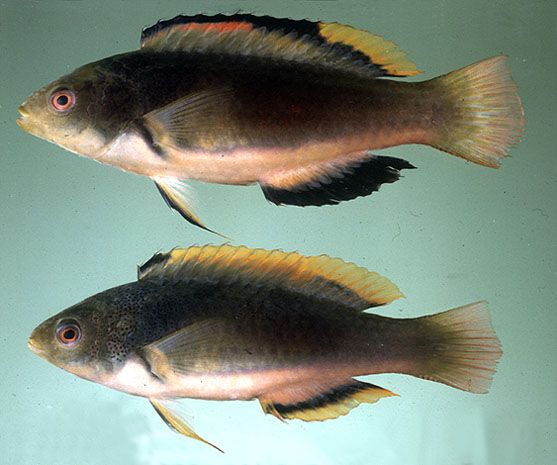fish: (15, 11, 528, 242), (27, 244, 504, 453)
